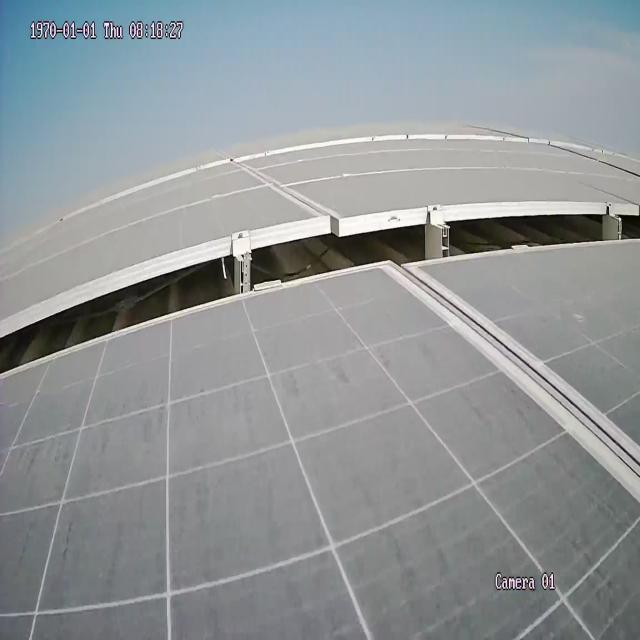interior panel: (396, 277, 640, 506)
outher panel: (0, 203, 637, 380)
